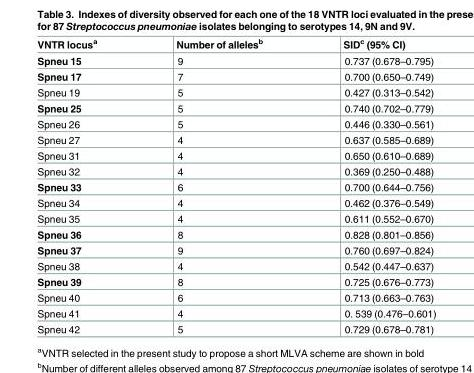table: (36, 36, 435, 334)
table column: (135, 36, 302, 334), (302, 36, 435, 334), (36, 36, 135, 334)
table column header: (36, 36, 435, 52)
table row: (36, 36, 435, 52), (36, 52, 435, 68), (36, 68, 435, 84), (36, 99, 435, 115), (36, 115, 435, 131), (36, 131, 435, 147), (36, 147, 435, 163), (36, 178, 435, 194), (36, 194, 435, 210), (36, 210, 435, 226), (36, 241, 435, 257), (36, 257, 435, 273), (36, 273, 435, 289), (36, 289, 435, 305), (36, 84, 435, 99), (36, 163, 435, 178), (36, 226, 435, 241), (36, 305, 435, 320), (36, 320, 435, 334)
